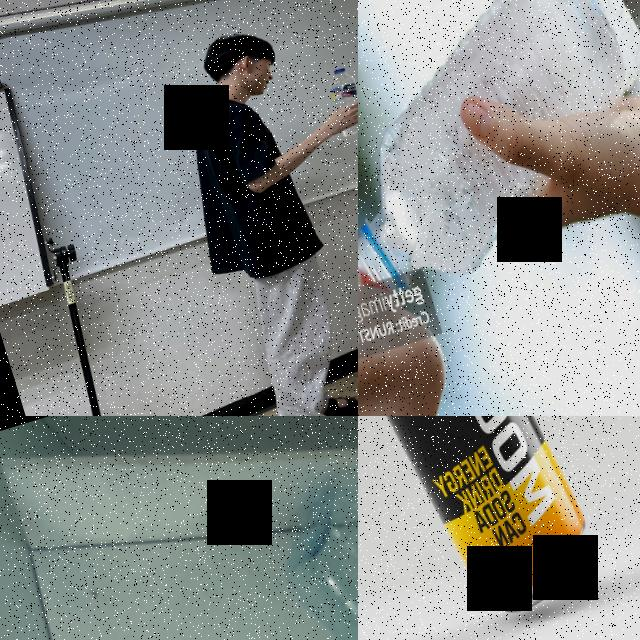bottle: (358, 0, 640, 308), (262, 442, 358, 640), (323, 63, 358, 138)
can: (358, 416, 611, 640)
